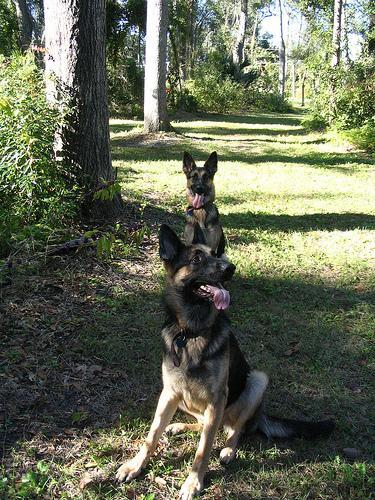German_shepherd: (111, 223, 340, 498), (176, 135, 236, 251)
